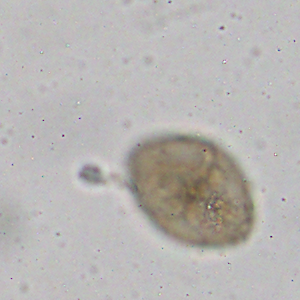Fasciola_hepatica_egg: (125, 134, 258, 247)
